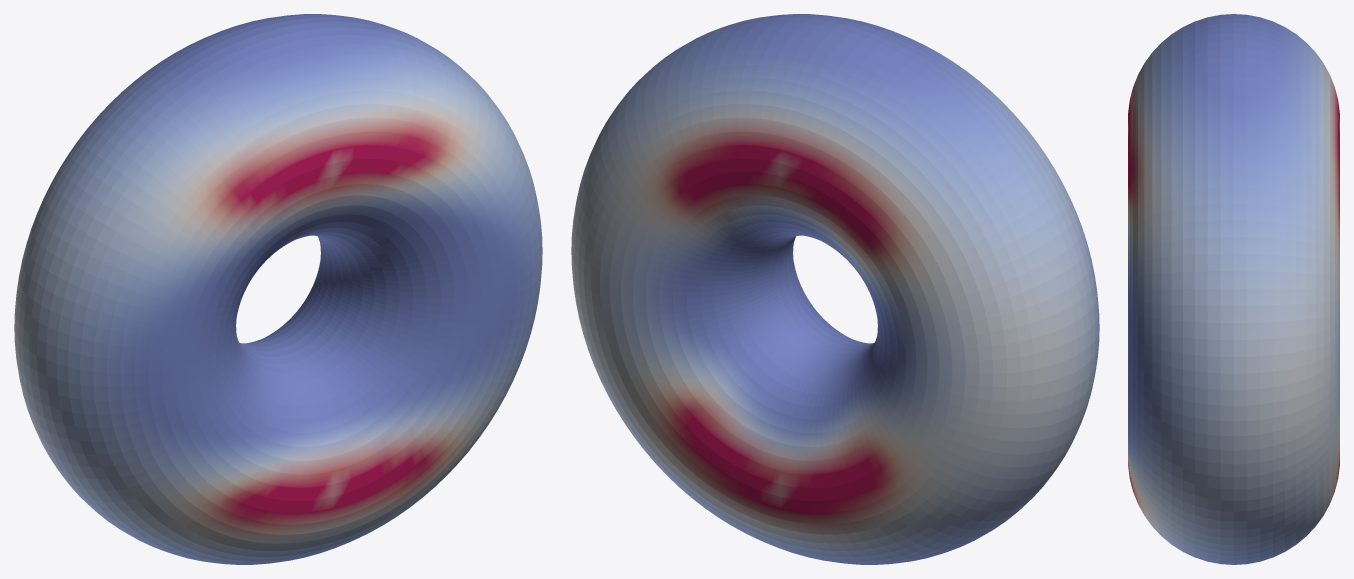
The picture shows the model from 3 angles, left to right: view 1: azimuth 30°, elevation 25°; view 2: azimuth 150°, elevation 25°; view 3: azimuth 270°, elevation 25°; orthographic projection. The views are drawn at different scales.
Visible parts, largest first — view 1: world; view 2: world; view 3: world.
Boxes of the visible parts, box(x1,y1,x2,y2) form: world: box(14, 14, 542, 564); world: box(571, 14, 1099, 564); world: box(1128, 14, 1339, 564).
Bounding box in the file's own units: 16.27 × 16.27 × 6.25.
